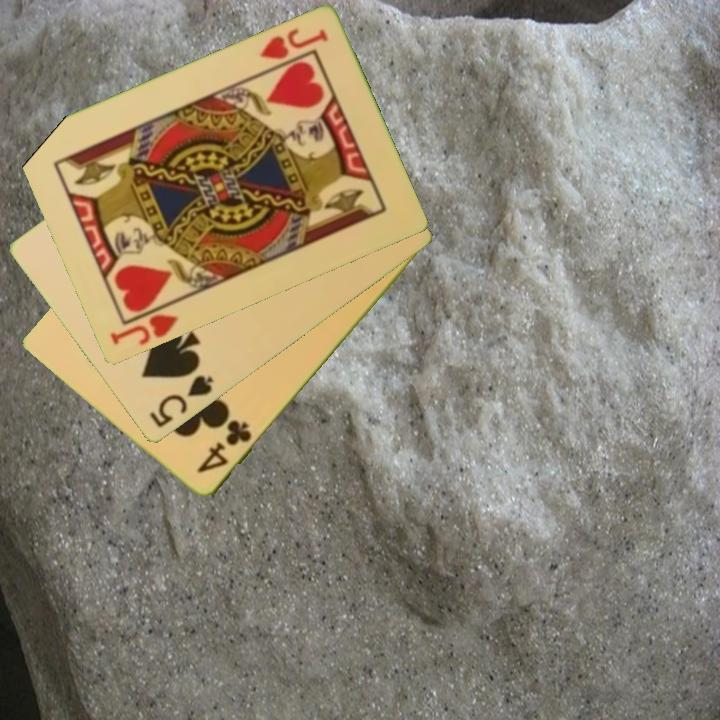4c: (193, 417, 255, 477)
5s: (146, 372, 217, 432)
Jh: (106, 298, 182, 349), (256, 25, 331, 64)
